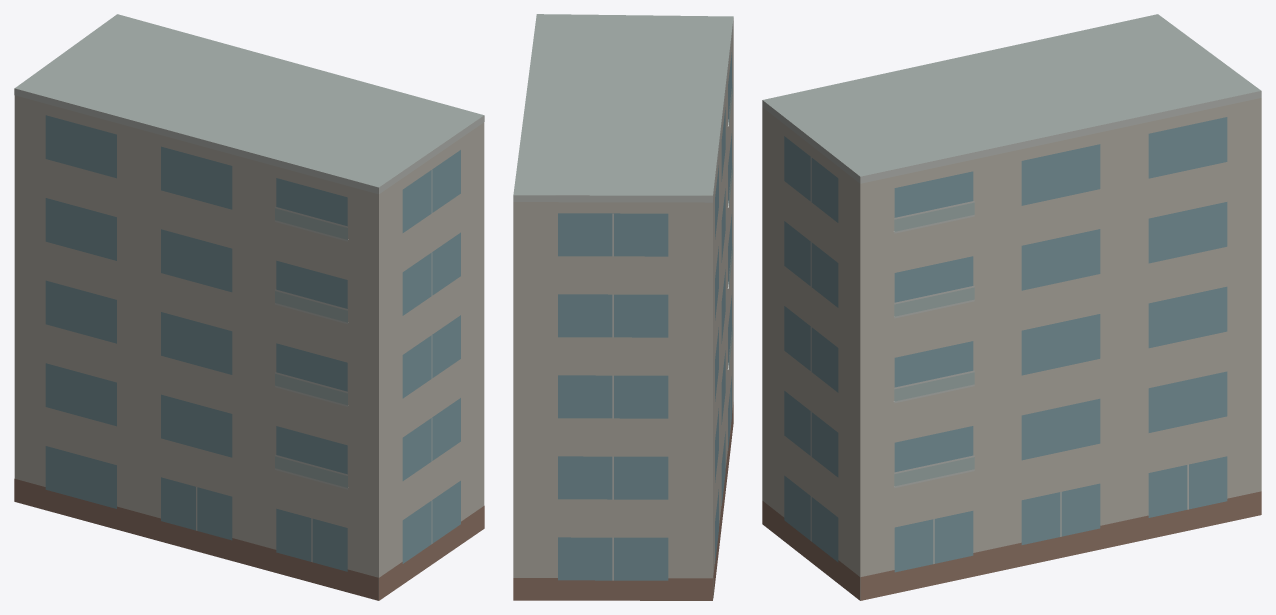
Rendered from survey-upis-32883460.glb.
3 views of the same model, side by side, from view 1: azimuth 30°, elevation 25°; view 2: azimuth 150°, elevation 25°; view 3: azimuth 270°, elevation 25° (orthographic). The views are drawn at different scales.
Visible parts, largest first — view 1: survey-upis-32883460.tmp; view 2: survey-upis-32883460.tmp; view 3: survey-upis-32883460.tmp.
Boxes of the visible parts, bbox=[...] form: survey-upis-32883460.tmp: bbox=[14, 14, 484, 600]; survey-upis-32883460.tmp: bbox=[513, 14, 733, 600]; survey-upis-32883460.tmp: bbox=[762, 14, 1261, 600].
Size of the model in its own units: 12.02 by 14.6 by 15.58.
